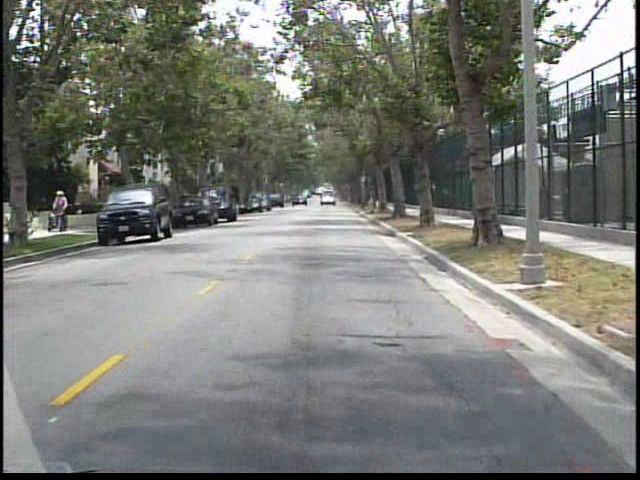person: (52, 188, 74, 233)
